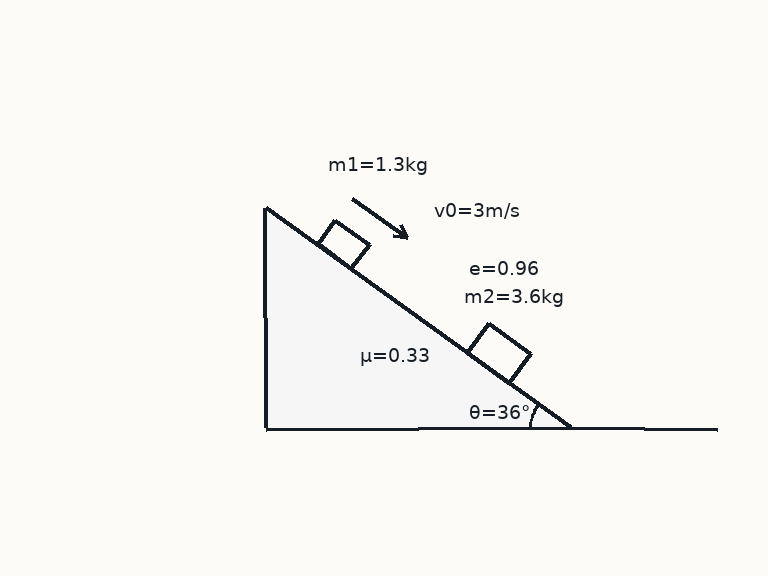block: (465, 321, 532, 385), (315, 217, 371, 271)
ramp: (264, 205, 572, 430)
